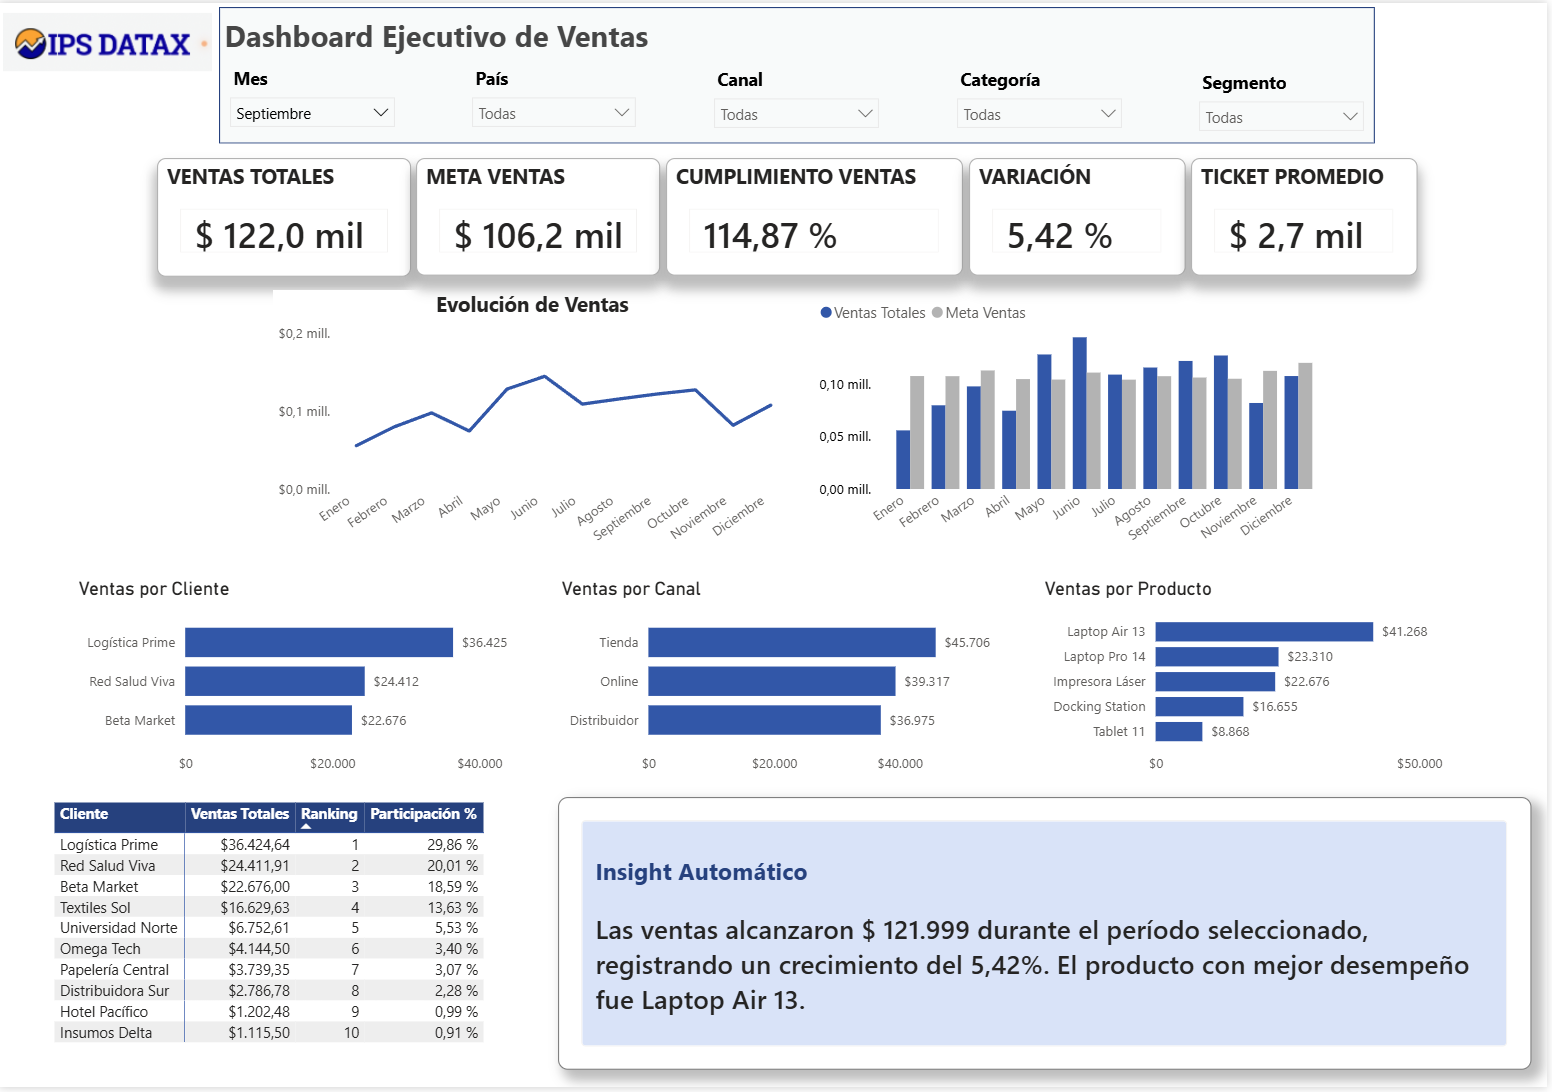

The page's visual inventory and layout, read from the dashboard file:
{"tool":"powerbi","page":{"name":"Resumen ejecutivo","canvas":[1408,985],"ordinal":0},"visuals":[{"type":"shape","box":[199.8,4,1050.8,124.2],"z":0},{"type":"textbox","box":[199.8,6.7,1050.8,53.7],"z":1000},{"type":"slicer","fields":{"Values":["Tabla Calendario.NombreMesLargo"]},"box":[199.8,53,169.9,65.5],"z":1000,"group":"g1"},{"type":"group","id":"g1","title":"Grupo 1","box":[199.8,53,1051.3,70],"z":2000},{"type":"slicer","fields":{"Values":["TblDimClienteDirty.Pais"]},"box":[419.7,53,169,65],"z":2000,"group":"g1"},{"type":"slicer","fields":{"Values":["TblDimCanalDirty.Canal"]},"box":[640.1,53.7,170.3,66.3],"z":3000,"group":"g1"},{"type":"cardVisual","title":"VENTAS TOTALES","fields":{"Data":["Medidas.Ventas_Totales"]},"box":[144,141,231,107.5],"z":3000},{"type":"lineChart","title":"Evolución de Ventas","fields":{"Category":["Tabla Calendario.NombreMesLargo"],"Y":["Medidas.Ventas_Totales"]},"box":[248.8,261.2,471.2,251.2],"z":4000},{"type":"slicer","fields":{"Values":["TblDimProductoDirty.Categoria"]},"box":[860.5,54.1,170.3,66.3],"z":5000,"group":"g1"},{"type":"cardVisual","title":"META VENTAS","fields":{"Data":["Medidas.Meta Ventas"]},"box":[379,141,222,107],"z":5000},{"type":"slicer","fields":{"Values":["TblDimClienteDirty.Segmento"]},"box":[1080.9,56.6,170.3,66.3],"z":6000,"group":"g1"},{"type":"clusteredColumnChart","title":"Ventas vs Meta","fields":{"Category":["Tabla Calendario.NombreMesLargo"],"Y":["Medidas.Ventas_Totales","Medidas.Meta Ventas"]},"box":[741.2,261,471.2,251.2],"z":6000},{"type":"barChart","title":"Ventas por Producto","fields":{"Category":["TblDimProductoDirty.Producto"],"Y":["Medidas.Ventas_Totales"]},"box":[945.1,522,419.7,188],"z":7000},{"type":"cardVisual","title":"CUMPLIMIENTO VENTAS","fields":{"Data":["Medidas.Cumplimiento Meta"]},"box":[606.4,141,269.6,107],"z":8000},{"type":"pivotTable","fields":{"Rows":["TblDimClienteDirty.Cliente"],"Values":["Medidas.Ventas_Totales","Medidas.Ranking Clientes","Medidas.Participacion Ventas %"]},"box":[45.3,721.8,446.5,248.4],"z":9000},{"type":"cardVisual","title":"VARIACIÓN %","fields":{"Data":["Medidas.Variacion % Tarjeta"]},"box":[881.6,141,196.9,107],"z":10000},{"type":"cardVisual","fields":{"Data":["Medidas.Insight Automático"]},"box":[508.6,721.8,884.6,248.4],"z":11000},{"type":"barChart","title":"Ventas por Cliente","fields":{"Category":["TblDimClienteDirty.Cliente"],"Y":["Medidas.Ventas_Totales"]},"box":[67.1,522,421.3,188],"z":12000},{"type":"cardVisual","title":"TICKET PROMEDIO","fields":{"Data":["Medidas.Ticket_Promedio"]},"box":[1084,141,205.6,107],"z":13000},{"type":"barChart","title":"Ventas por Canal","fields":{"Category":["TblDimCanalDirty.Canal"],"Y":["Medidas.Ventas_Totales"]},"box":[506.3,522,421,188],"z":14000},{"type":"actionButton","title":"Ver","box":[1243.9,347.7,136.7,77.7],"z":15000}]}

Visuals, with their boxes in screenshot pixels (x1, y1, x2, y2), scaled from the page's 1408x985 canvas onto the 1552x1092 screenshot:
shape: detection(220, 4, 1379, 142)
textbox: detection(220, 7, 1379, 67)
slicer - Tabla Calendario.NombreMesLargo: detection(220, 59, 408, 131)
"Grupo 1" group: detection(220, 59, 1379, 136)
slicer - TblDimClienteDirty.Pais: detection(463, 59, 649, 131)
slicer - TblDimCanalDirty.Canal: detection(706, 60, 893, 133)
"VENTAS TOTALES" cardVisual: detection(159, 156, 413, 275)
"Evolución de Ventas" lineChart: detection(274, 290, 794, 568)
slicer - TblDimProductoDirty.Categoria: detection(949, 60, 1136, 133)
"META VENTAS" cardVisual: detection(418, 156, 662, 275)
slicer - TblDimClienteDirty.Segmento: detection(1191, 63, 1379, 136)
"Ventas vs Meta" clusteredColumnChart: detection(817, 289, 1336, 568)
"Ventas por Producto" barChart: detection(1042, 579, 1504, 787)
"CUMPLIMIENTO VENTAS" cardVisual: detection(668, 156, 966, 275)
pivotTable - TblDimClienteDirty.Cliente x Medidas.Ventas_Totales: detection(50, 800, 542, 1076)
"VARIACIÓN %" cardVisual: detection(972, 156, 1189, 275)
cardVisual - Medidas.Insight Automático: detection(561, 800, 1536, 1076)
"Ventas por Cliente" barChart: detection(74, 579, 538, 787)
"TICKET PROMEDIO" cardVisual: detection(1195, 156, 1421, 275)
"Ventas por Canal" barChart: detection(558, 579, 1022, 787)
"Ver" actionButton: detection(1371, 385, 1522, 472)
